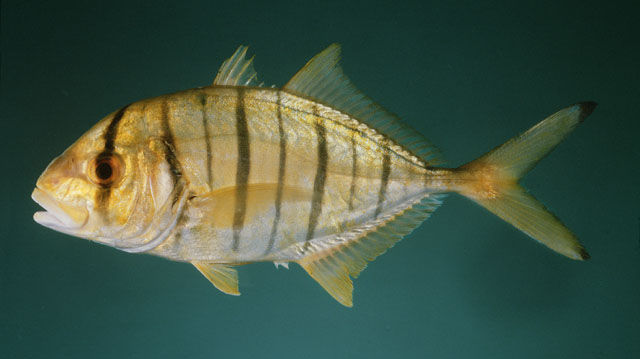fish: (31, 42, 600, 309)
